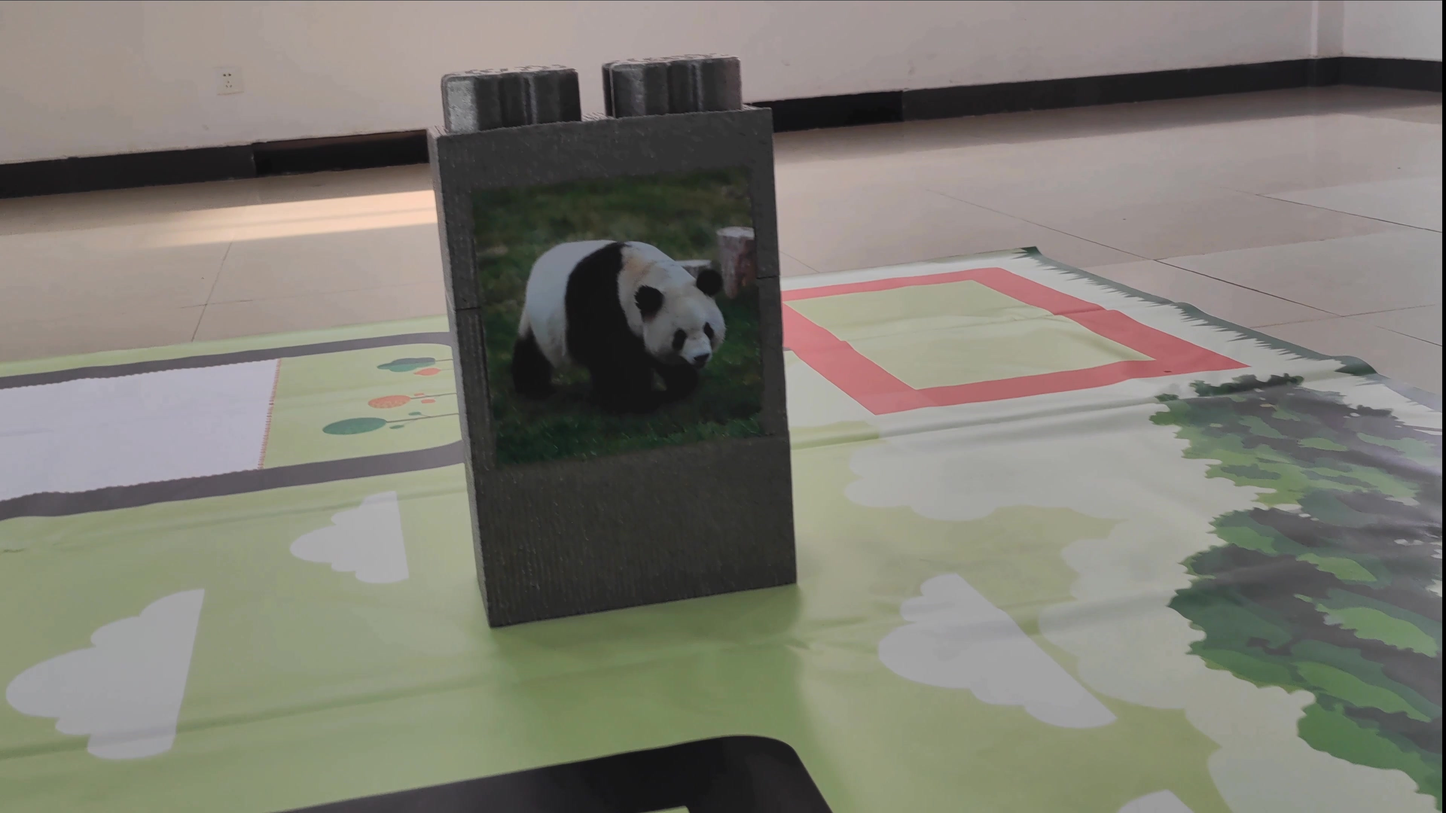panda: (503, 222, 761, 439)
